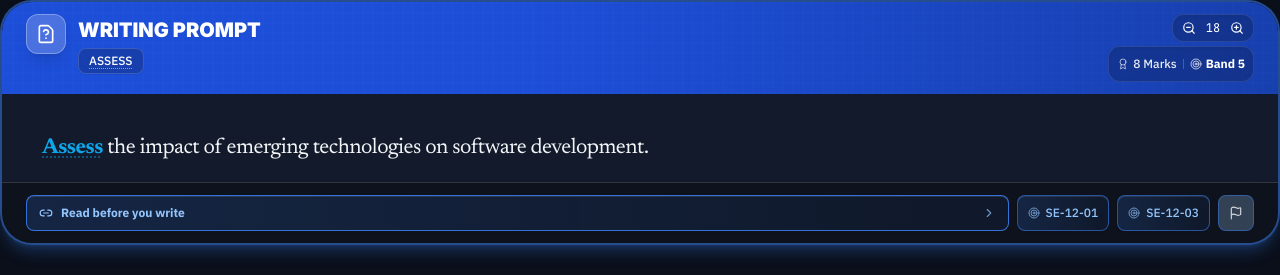
Test case: outcome chips in the prompt footer › dismisses the preview when the pointer leaves the chip
Hover over the button "SE-12-03" at (1164, 213), box [1117, 195, 1210, 231]
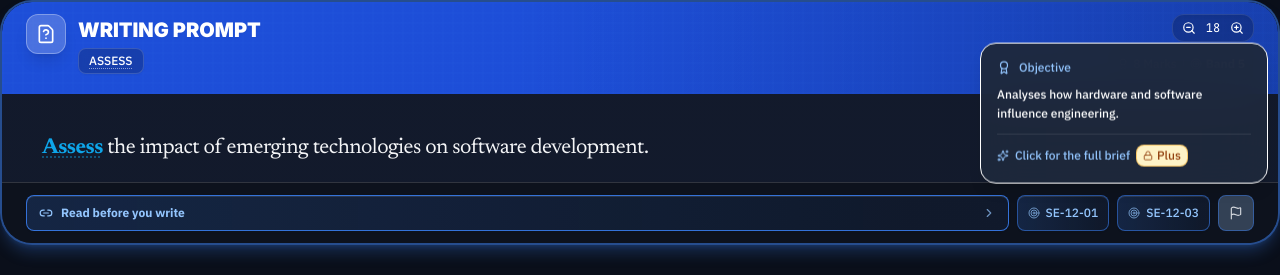
Expected: the tooltip is shown, [980, 43, 1268, 183]
Move the pointer off the button "SE-12-03", box [1117, 195, 1210, 231]
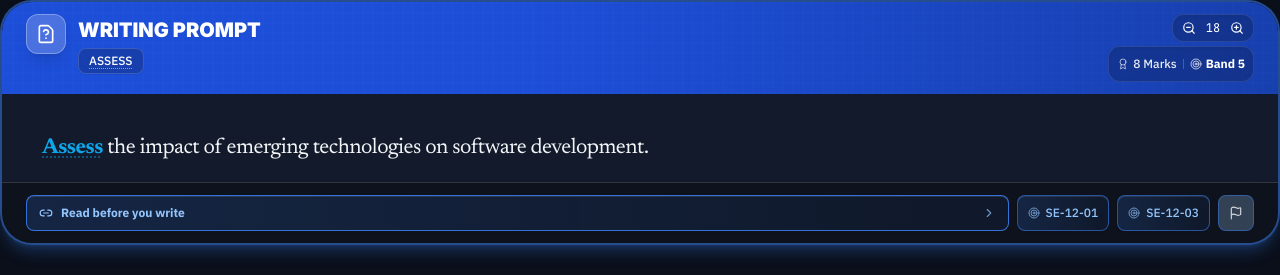
Expected: the tooltip is gone
